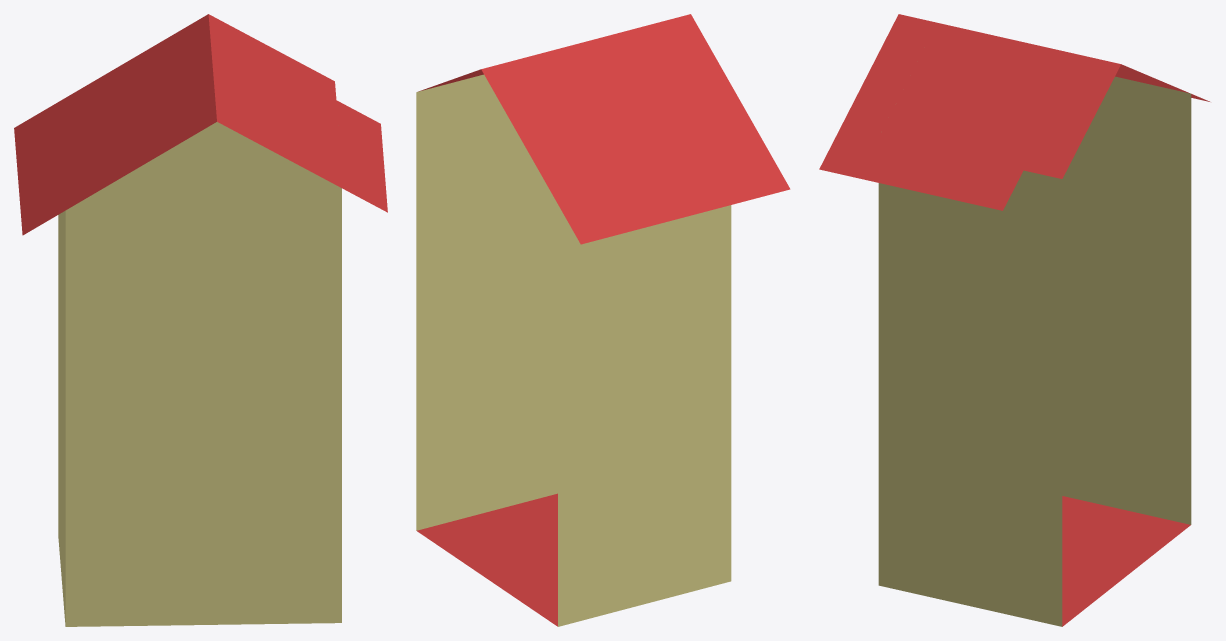
3 views of the same model, side by side, from view 1: azimuth 30°, elevation 25°; view 2: azimuth 150°, elevation 25°; view 3: azimuth 270°, elevation 25° (orthographic). The views are drawn at different scales.
Size of the model in its own units: 7.12 by 6.7 by 9.72.
